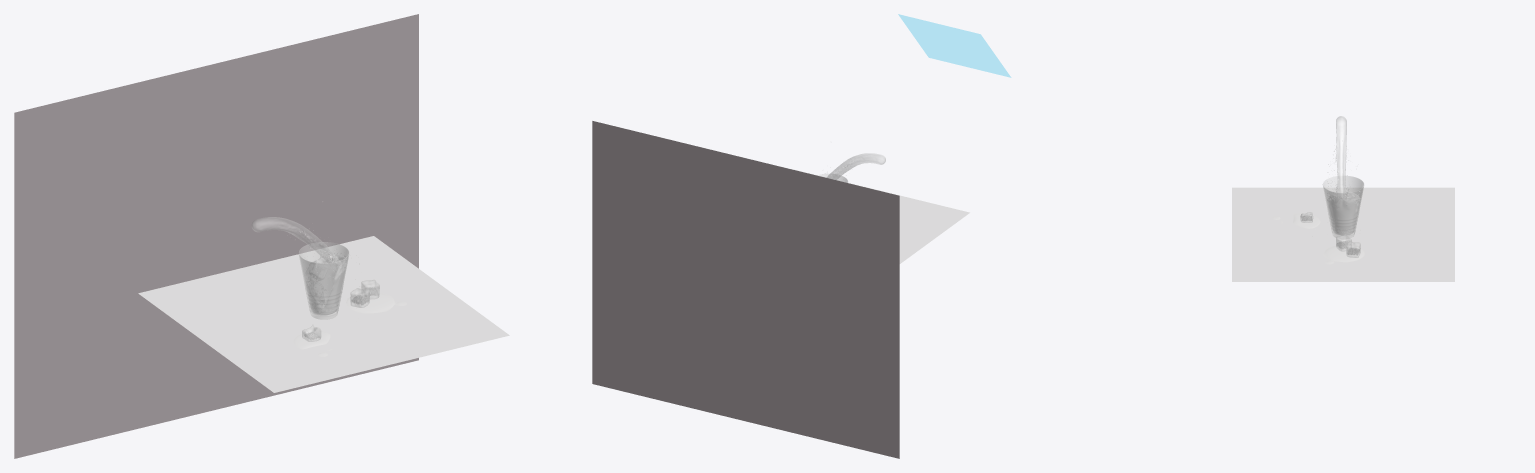
File: glass_of_water_extended.glb
The picture shows the model from 3 angles, left to right: view 1: azimuth 30°, elevation 25°; view 2: azimuth 150°, elevation 25°; view 3: azimuth 270°, elevation 25°; orthographic projection. The views are drawn at different scales.
Visible parts, largest first — view 1: 12_Backdrop, 13_Floor, 14_Glass, 15_WaterAir, 01_WaterAir; view 2: 12_Backdrop, 16_diffuse_00, 13_Floor, 15_WaterAir; view 3: 13_Floor, 14_Glass, 15_WaterAir.
Part boxes in pixels (x1,y1,x2,y2): 12_Backdrop: (14,14,418,458); 13_Floor: (138,236,509,392); 14_Glass: (299,242,348,319); 15_WaterAir: (252,201,359,315); 01_WaterAir: (346,293,406,312); 12_Backdrop: (592,121,899,458); 16_diffuse_00: (898,14,1011,77); 13_Floor: (791,169,969,263); 15_WaterAir: (827,153,885,179); 13_Floor: (1232,187,1454,281); 14_Glass: (1323,176,1363,238); 15_WaterAir: (1326,116,1360,235).
Size of the model in its own units: 37.06 by 30.33 by 46.6.
